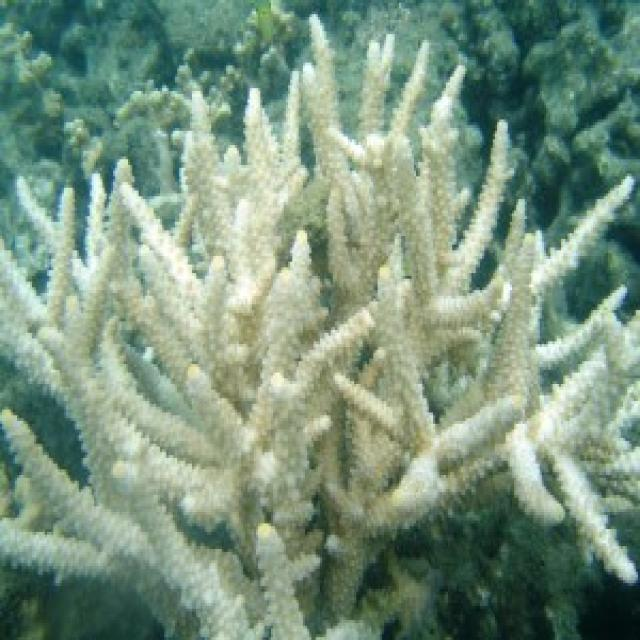Bleached: (1, 15, 637, 638)
